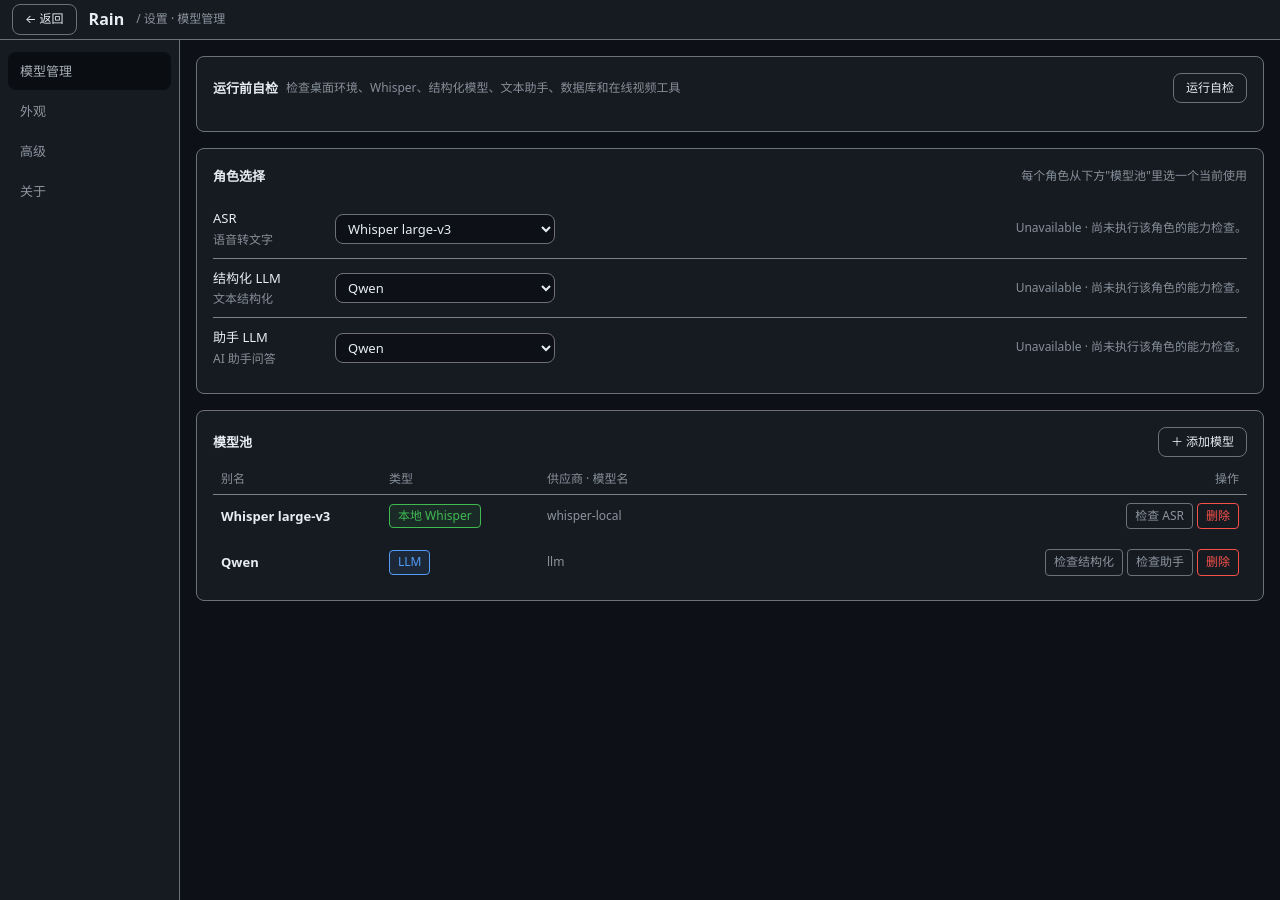
Test case: AC-LV-21 Whisper backend settings UI › offers Auto, NVIDIA GPU, and CPU and reports persistence failures
Click the text "高级": point(33, 151) [20,142,46,160]
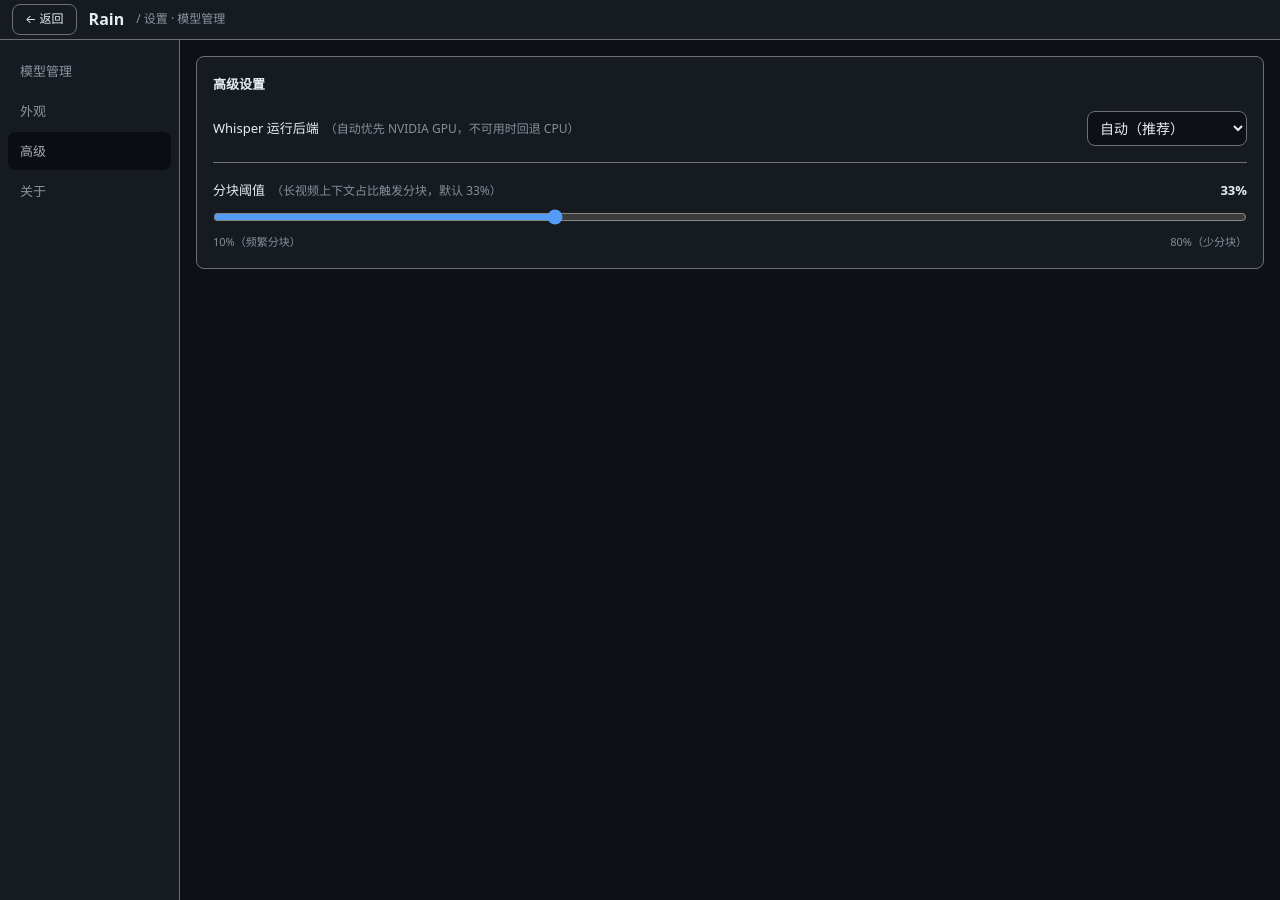
Expected: the dropdown with test id "whisper-backend-preference" shows "NVIDIA GPU"
Expected: the dropdown with test id "whisper-backend-preference" shows "CPU"
Select "NVIDIA GPU" in the dropdown with test id "whisper-backend-preference": point(1167, 129) [1087,111,1247,146]
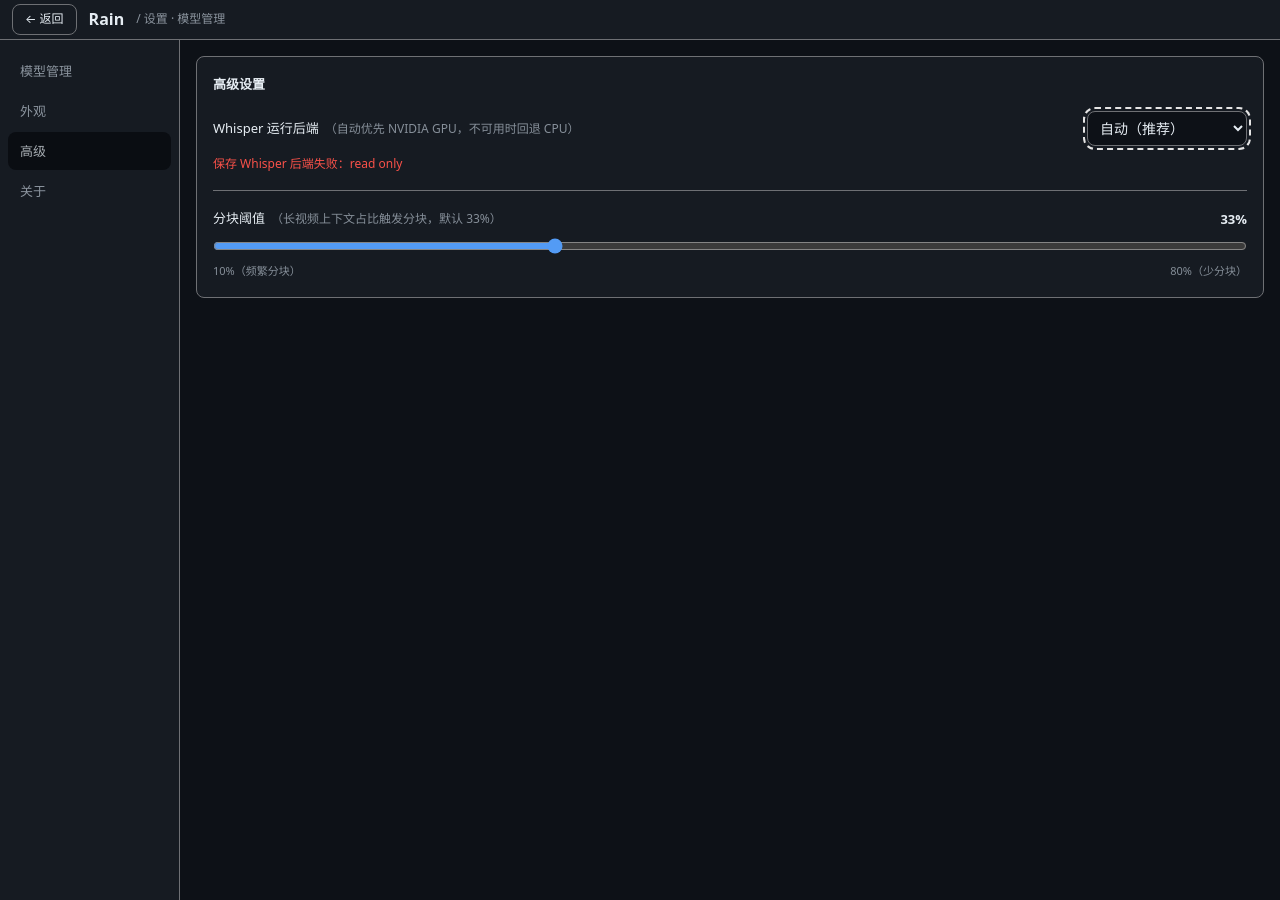
Expected: the message reads "保存 Whisper 后端失败：read only", [213,155,402,172]
